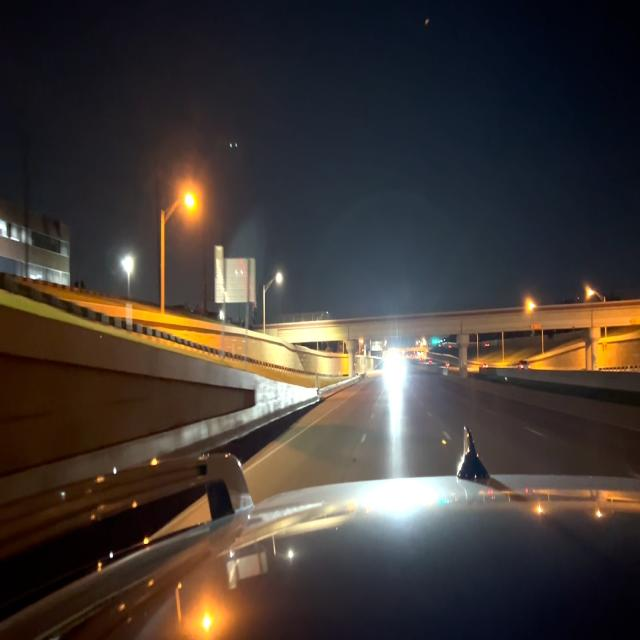back-of-sign: (214, 257, 256, 303), (215, 245, 224, 256)
